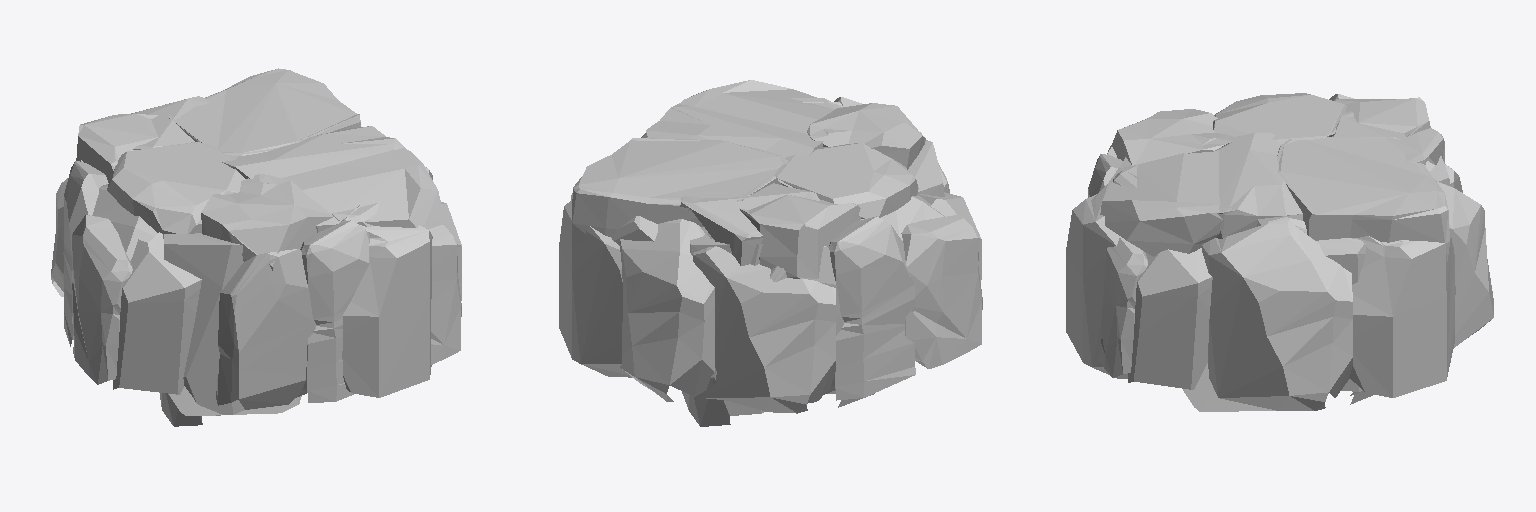
File: new stone island 2.obj
The picture shows the model from 3 angles: view 1: azimuth 30°, elevation 25°; view 2: azimuth 150°, elevation 25°; view 3: azimuth 270°, elevation 25°; orthographic projection.
Parts seen in each view (by area): view 1: Stone035 level01Short1, level01Short Stone024, level01Short Stone07, level01Short1 Stone031, level01Short Stone027, level01Short Stone01, Stone028 level01Short, level01Short1 Stone02, level01Short Stone033, level01Short Stone029, level01Short Stone05, level01Short Stone02 (+8 smaller); view 2: level01Short Stone03, Stone03 level01Short2, level01Short Stone07, level01Short1 Stone01, level01Short1 Stone02, level01Short Stone035, level01Short Stone027, level01Short Stone026, level01Short Stone05, level01Short Stone029, Stone028 level01Short, level01Short Stone025 (+6 smaller); view 3: level01Short1 Stone03, level01Short Stone035, level01Short Stone07, level01Short Stone031, Stone028 level01Short, Stone035 level01Short1, level01Short Stone05, Stone03 level01Short2, level01Short Stone027, level01Short Stone02, level01Short Stone029, level01Short Stone026 (+4 smaller).
Part boxes in pixels (x1,y1,x2,y2): Stone035 level01Short1: (340,205,432,397); level01Short Stone024: (216,247,316,409); level01Short Stone07: (169,68,360,155); level01Short1 Stone031: (113,232,201,394); level01Short Stone027: (107,142,245,233); level01Short Stone01: (300,220,369,402); Stone028 level01Short: (282,149,443,232); level01Short1 Stone02: (72,215,132,384); level01Short Stone033: (160,233,244,426); level01Short Stone029: (201,174,334,270); level01Short Stone05: (222,126,405,178); level01Short Stone02: (427,221,461,364); level01Short Stone03: (693,233,835,413); Stone03 level01Short2: (620,219,714,401); level01Short Stone07: (572,138,787,242); level01Short1 Stone01: (829,216,915,400); level01Short1 Stone02: (901,215,982,368); level01Short Stone035: (559,200,631,377); level01Short Stone027: (775,143,918,218); level01Short Stone026: (739,195,860,279); level01Short Stone05: (646,103,823,158); level01Short Stone029: (807,103,925,169); Stone028 level01Short: (681,80,842,133); level01Short Stone025: (680,183,819,265); level01Short1 Stone03: (1201,217,1352,410); level01Short Stone035: (1349,236,1455,397); level01Short Stone07: (1277,137,1449,261); level01Short Stone031: (1128,249,1212,389); Stone028 level01Short: (1100,150,1223,256); Stone035 level01Short1: (1066,167,1139,378); level01Short Stone05: (1216,133,1302,238); Stone03 level01Short2: (1435,180,1493,347); level01Short Stone027: (1213,93,1346,143); level01Short Stone02: (1099,237,1147,377); level01Short Stone029: (1112,109,1232,165); level01Short Stone026: (1334,97,1430,136).
Bounding box in the file's own units: 135 × 74.36 × 135.